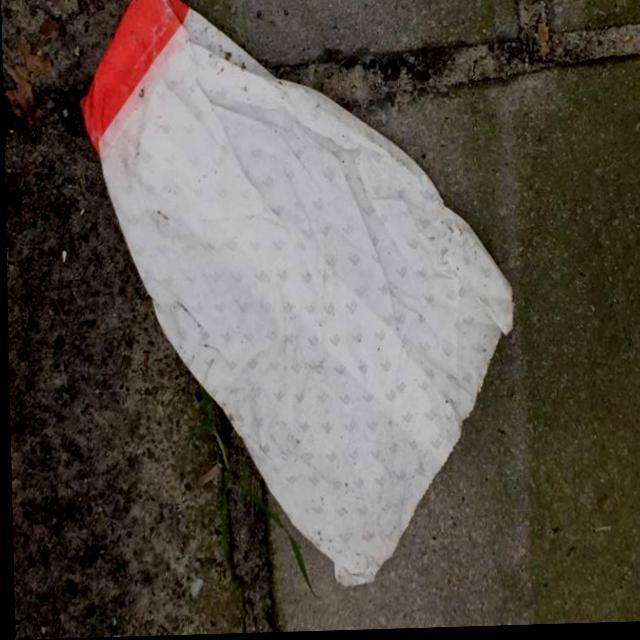Paper: (72, 0, 520, 597)
